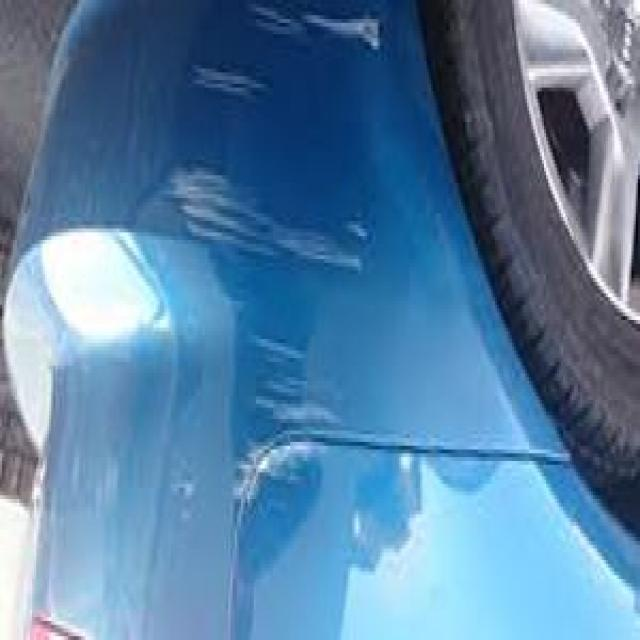scratch: (186, 4, 410, 579)
